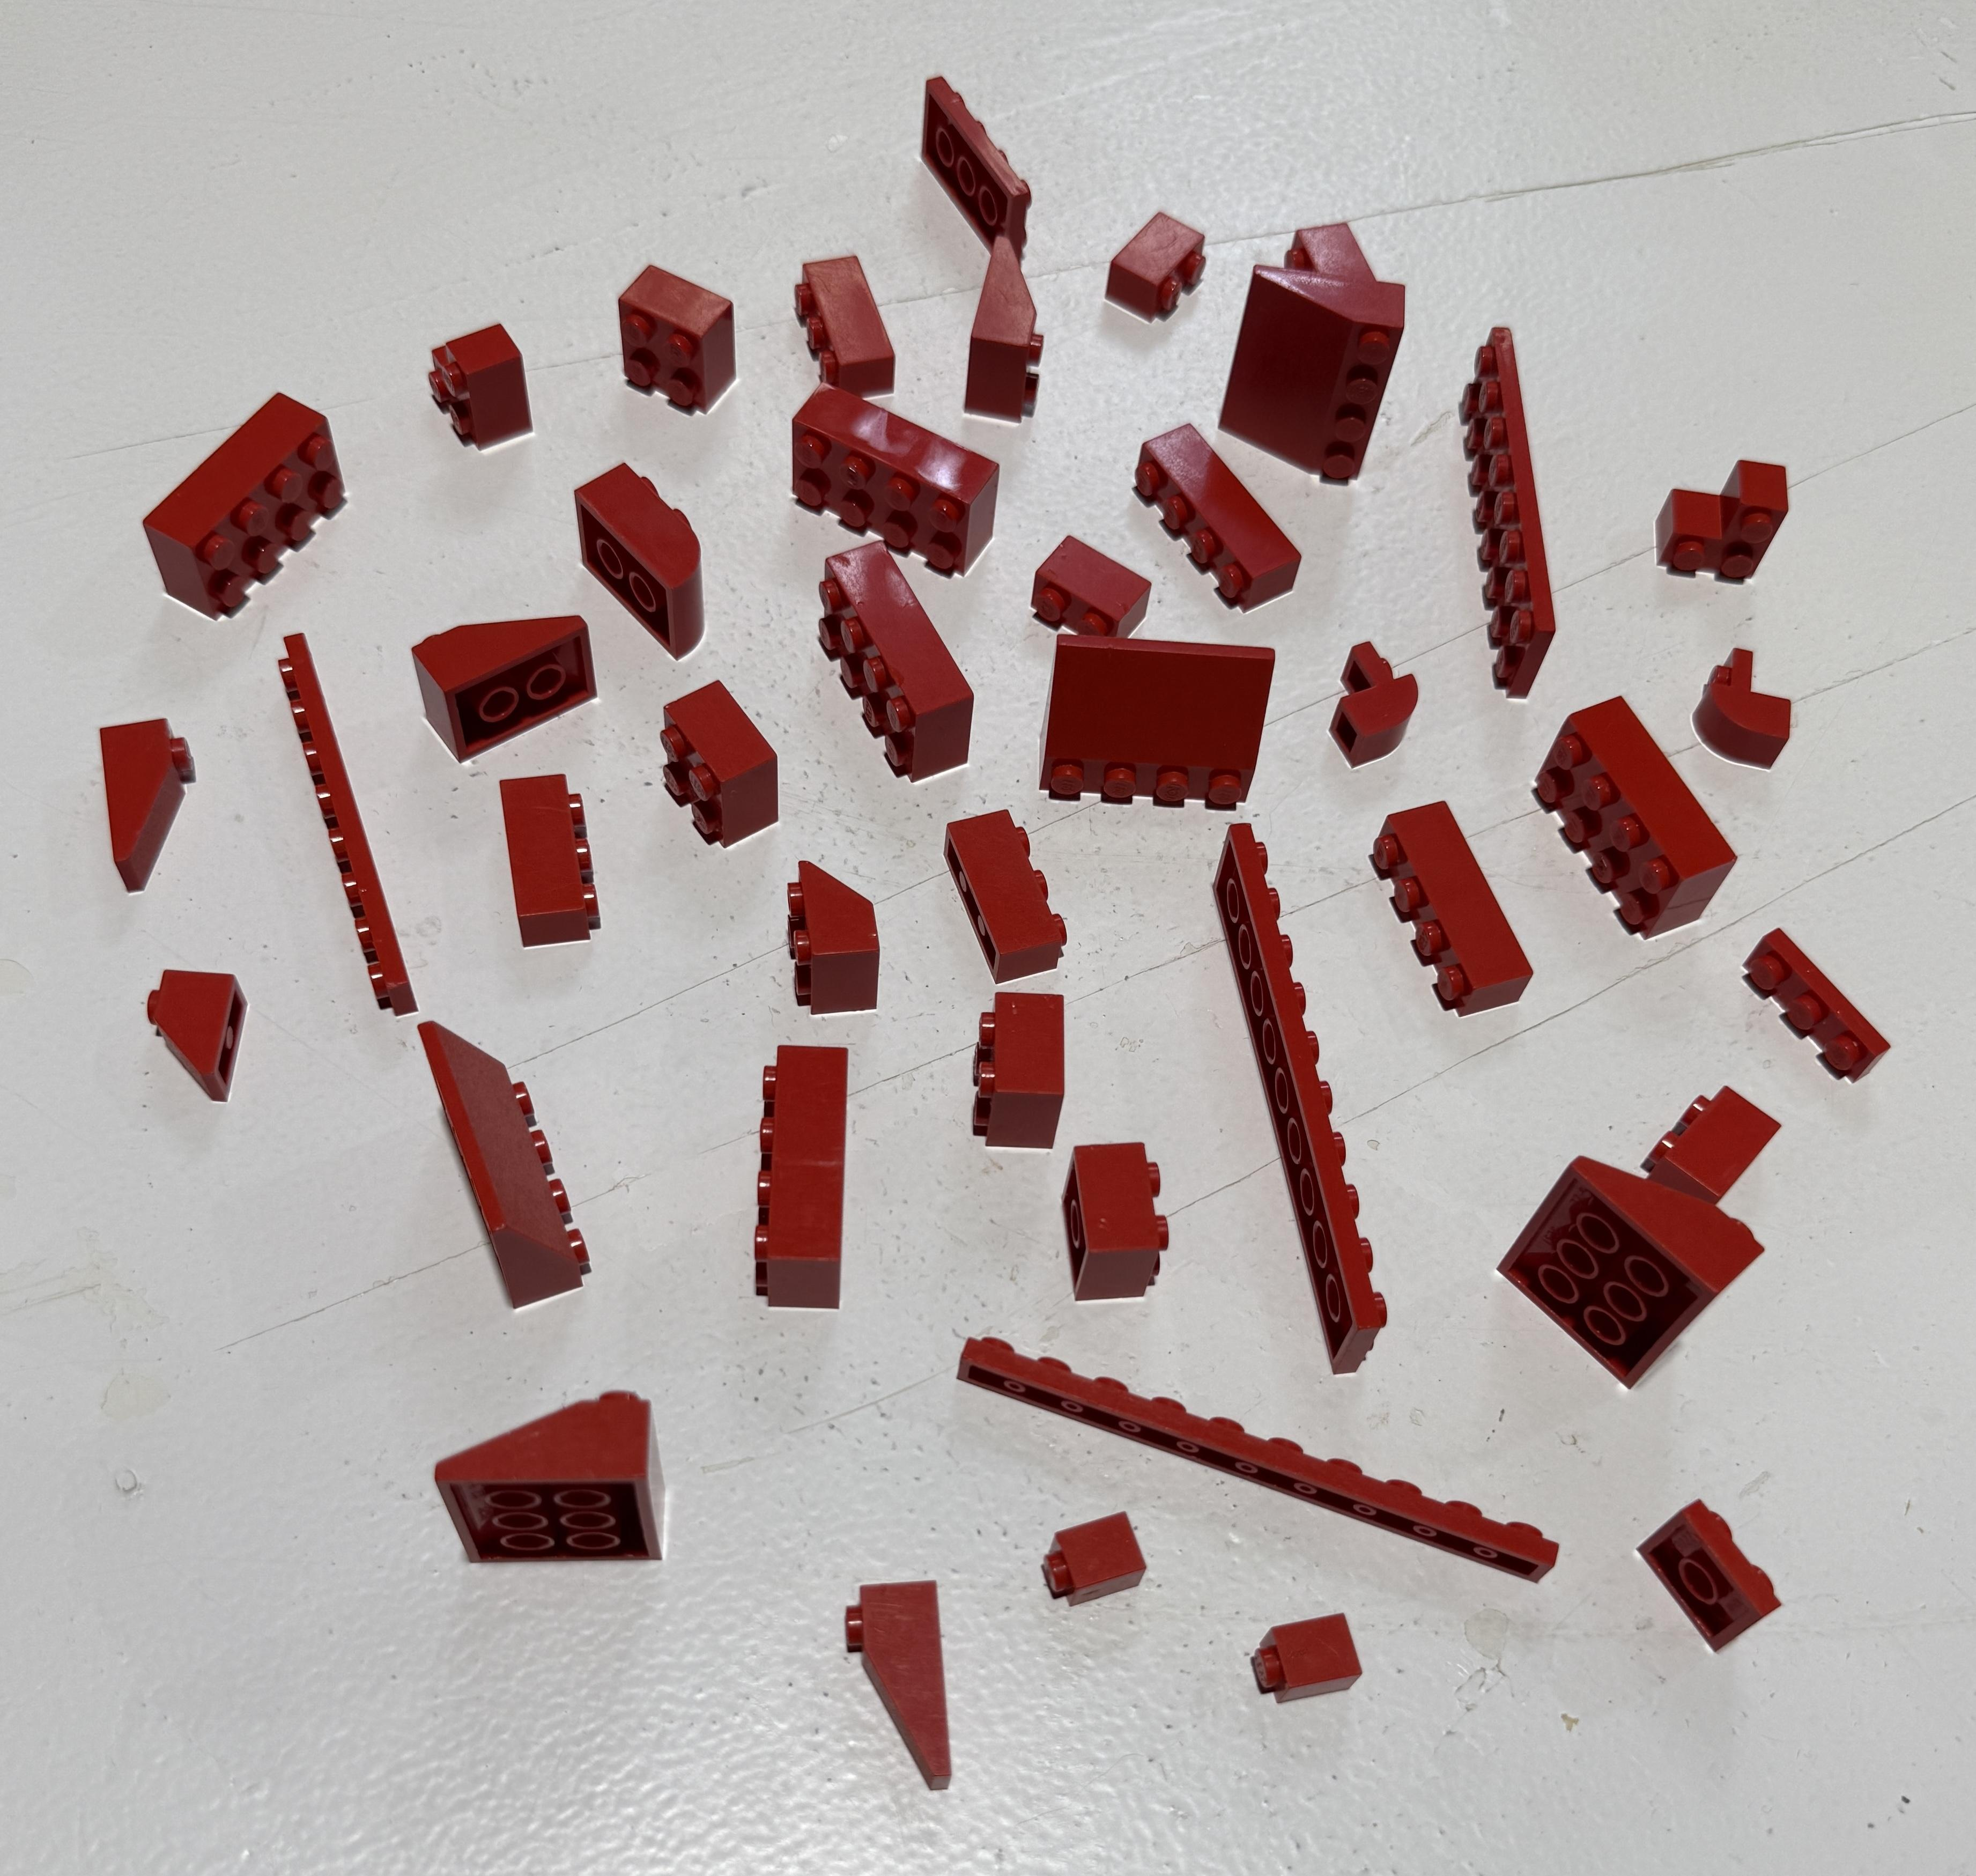Special_02: (786, 1553, 980, 1800), (405, 599, 608, 776), (83, 698, 206, 920), (952, 220, 1070, 428)
brick_1x1: (1015, 1479, 1163, 1634), (1230, 1580, 1382, 1723)
brick_1x2: (948, 945, 1132, 1165), (1627, 1070, 1794, 1238), (999, 513, 1172, 661), (1065, 169, 1223, 321)
brick_1x3: (469, 760, 650, 987), (927, 779, 1089, 991), (776, 213, 915, 407)
brick_1x4: (716, 1019, 922, 1329), (1354, 771, 1551, 1040), (1112, 404, 1326, 628)
brick_2x2: (598, 240, 770, 428), (1049, 1111, 1193, 1310), (652, 663, 791, 864)
brick_2x4: (1512, 684, 1745, 947), (132, 370, 358, 637), (763, 369, 1015, 596), (786, 527, 985, 790)
plate_2x2: (1631, 1485, 1794, 1663)
